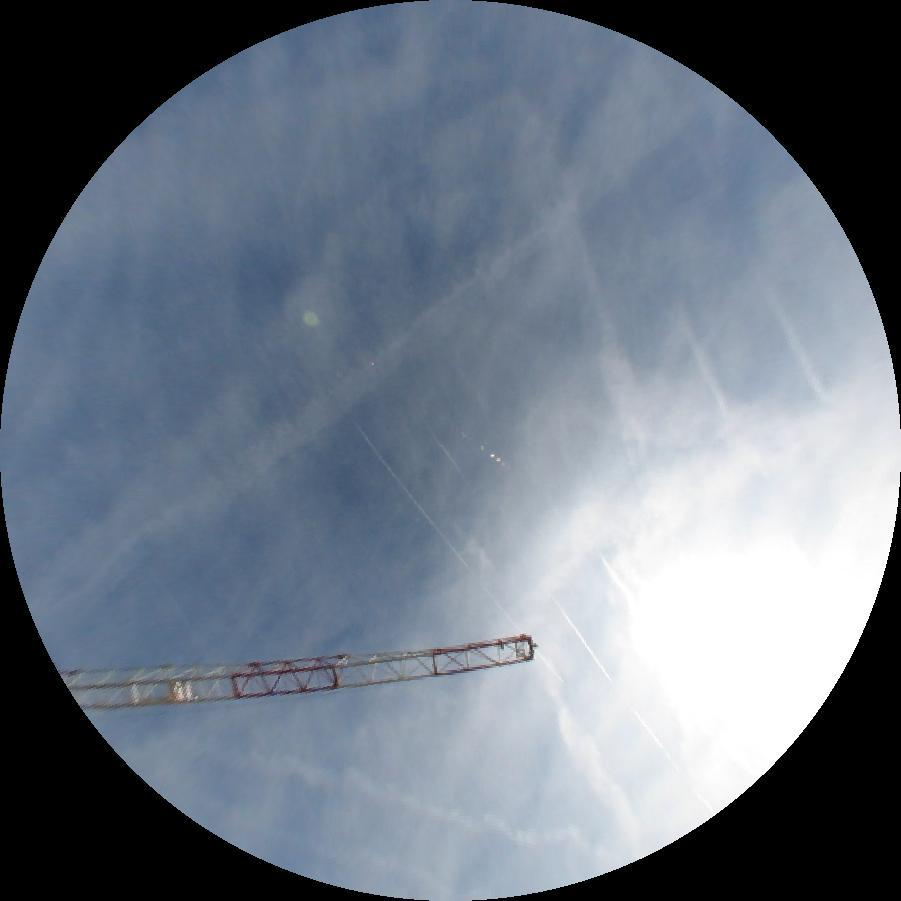contrail young: (427, 430, 717, 818), (352, 422, 565, 685)
